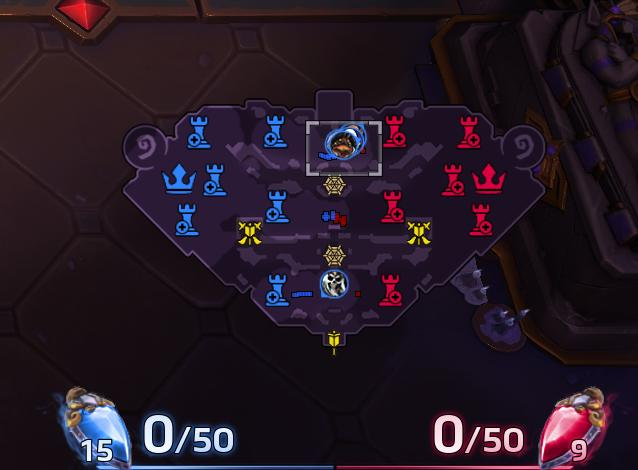blue nexus: (160, 161, 197, 193)
blue player: (324, 128, 358, 159), (319, 268, 348, 298), (341, 122, 366, 156)
blue tower: (185, 114, 212, 149), (173, 202, 200, 236), (264, 188, 290, 223), (262, 113, 288, 148), (264, 272, 290, 306), (202, 161, 227, 196)
red nexus: (470, 162, 506, 194)
red tower: (467, 202, 493, 236), (377, 272, 403, 306), (382, 113, 407, 148), (440, 162, 465, 197), (456, 114, 481, 149), (379, 189, 404, 223)
